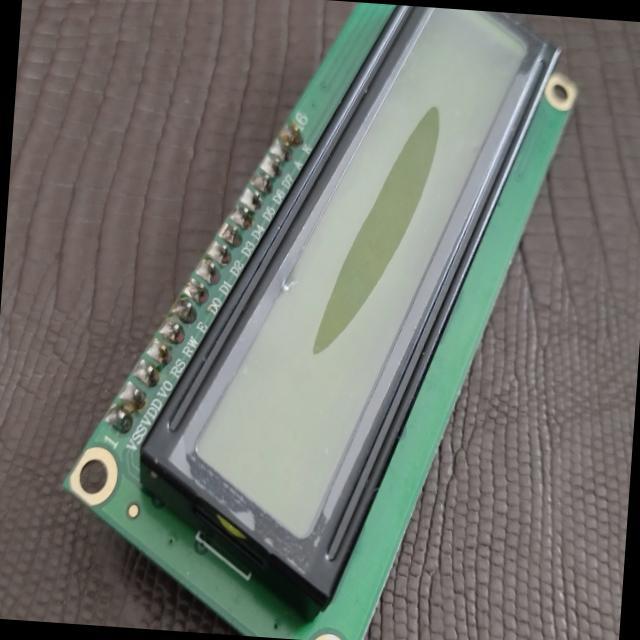lcd: (63, 0, 598, 640)
